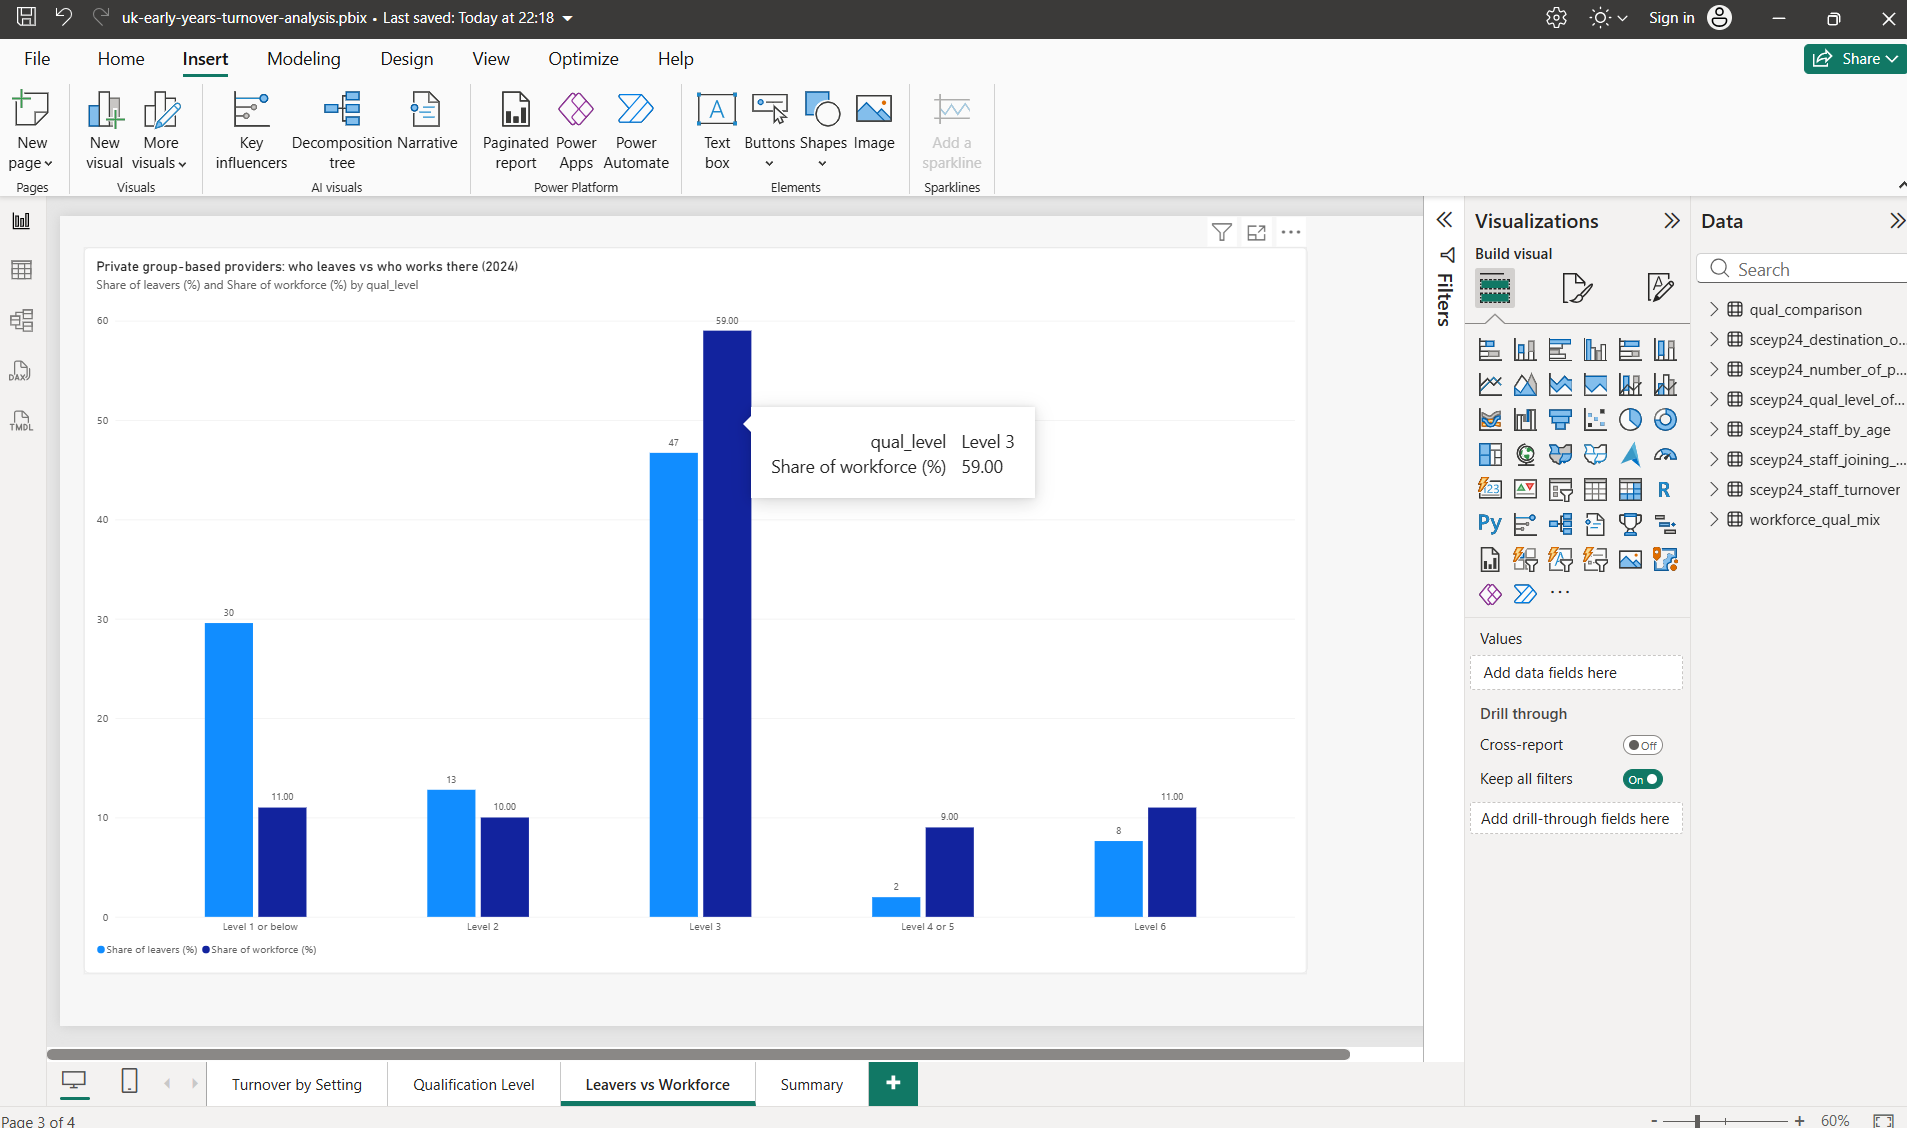

Layout of this report page (visuals, bound fields, positions):
{"tool":"powerbi","page":{"name":"Leavers vs Workforce","canvas":[1920,1080],"ordinal":2},"visuals":[{"type":"clusteredColumnChart","title":"Private group-based providers: who leaves vs who works there (2024)","fields":{"Category":["qual_comparison.qual_level"],"Y":["Avg(qual_comparison.proportion)","Avg(qual_comparison.workforce_pct)"]},"box":[32,42,1632,968],"z":0}]}

Visuals, with their boxes on the page's 1920x1080 design canvas (x1, y1, x2, y2). These are canvas units, not pixel positions in the 1907x1128 screenshot, which may show the page scaled, cropped or inside an application window:
"Private group-based providers: who leaves vs who works there (2024)" clusteredColumnChart: [32, 42, 1664, 1010]
